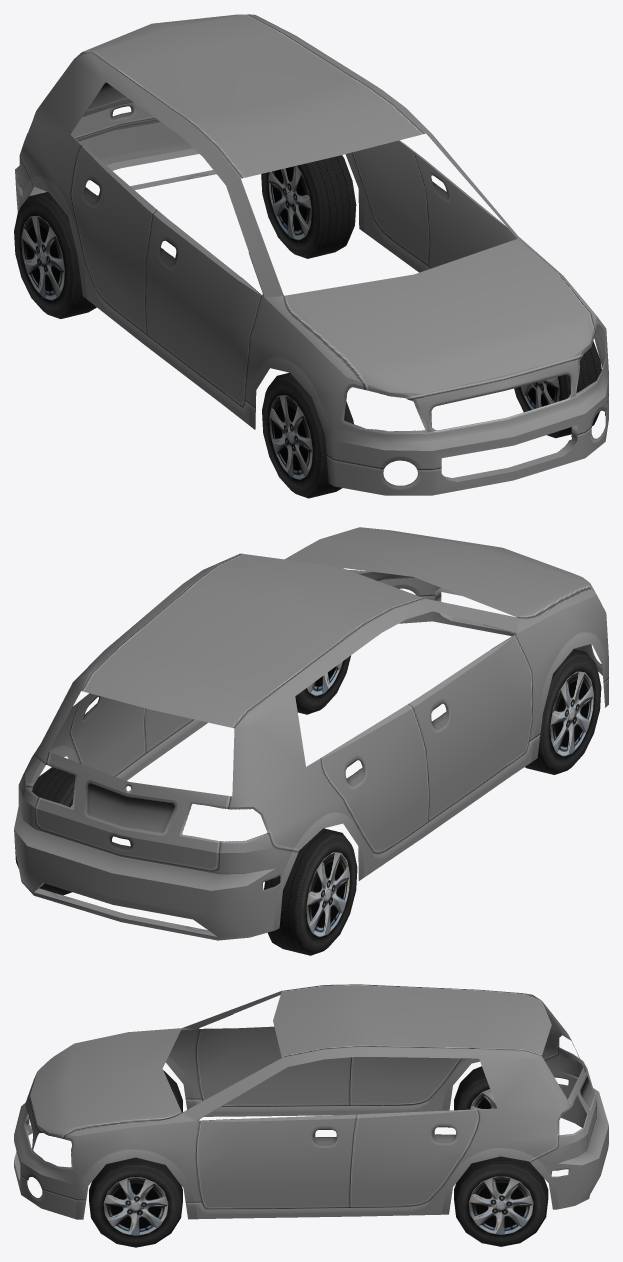
File: Vehicle01.fbx
The picture shows the model from 3 angles, top to bottom: view 1: azimuth 30°, elevation 25°; view 2: azimuth 150°, elevation 25°; view 3: azimuth 270°, elevation 25°; orthographic projection. The views are drawn at different scales.
Parts seen in each view (by area): view 1: Vehicle01Chassis, LR_Wheel, RR_Wheel, RF_Wheel, LF_Wheel; view 2: Vehicle01Chassis, RR_Wheel, RF_Wheel, LR_Wheel, LF_Wheel; view 3: Vehicle01Chassis, LR_Wheel, LF_Wheel, RR_Wheel.
Boxes of the visible parts, x1,y1,x2,y2 form: Vehicle01Chassis: (15,14,608,495); LR_Wheel: (261,155,356,258); RR_Wheel: (14,192,96,318); RF_Wheel: (262,372,353,498); LF_Wheel: (514,341,601,438); Vehicle01Chassis: (14,527,608,940); RR_Wheel: (264,828,357,955); RF_Wheel: (525,649,601,774); LR_Wheel: (15,767,75,895); LF_Wheel: (295,655,350,714); Vehicle01Chassis: (14,984,608,1219); LR_Wheel: (454,1156,548,1246); LF_Wheel: (89,1157,182,1247); RR_Wheel: (454,1066,496,1110).
Bounding box in the file's own units: 2.25 × 1.64 × 4.77.
